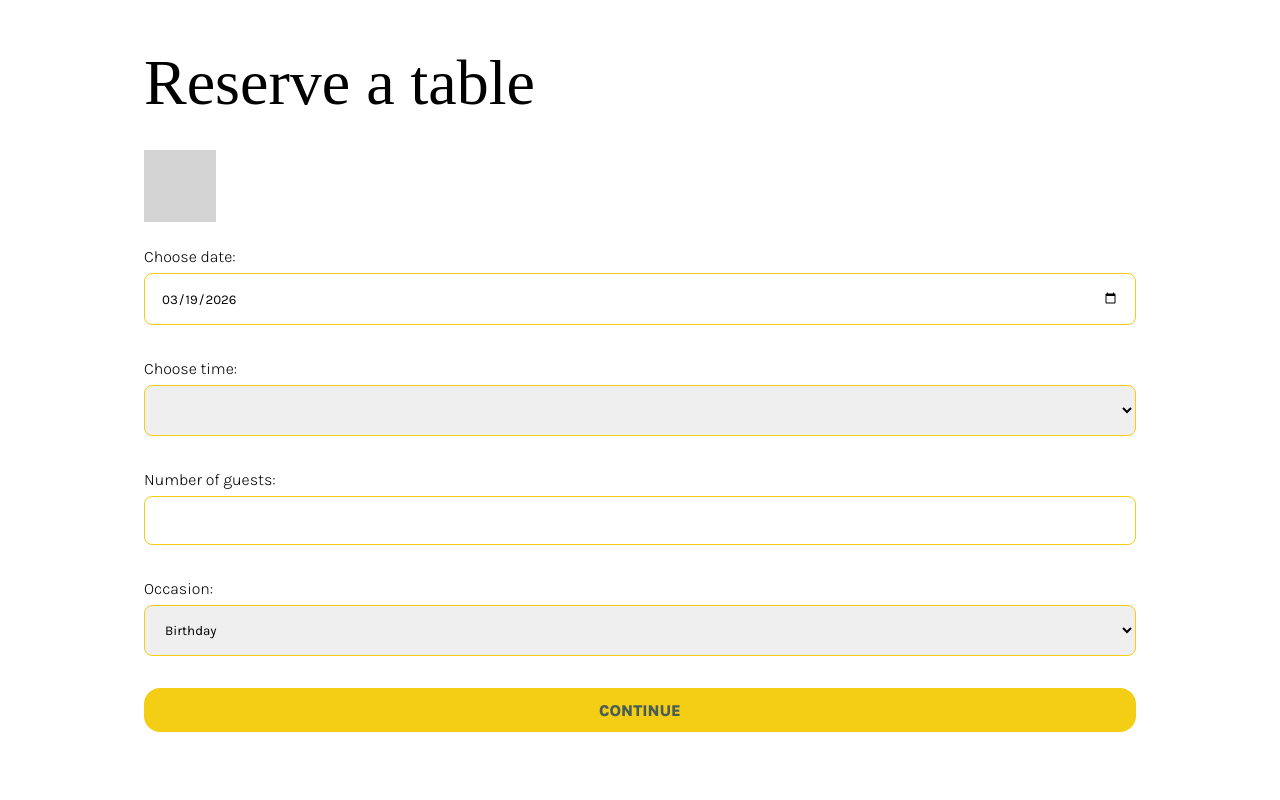
BookingPage › Booking form errors › should validate the time field
Select "" in the dropdown labelled "Choose time:" at (640, 410), box x1=144 y1=385 x2=1136 y2=436
Leave the dropdown labelled "Choose time:", box x1=144 y1=385 x2=1136 y2=436
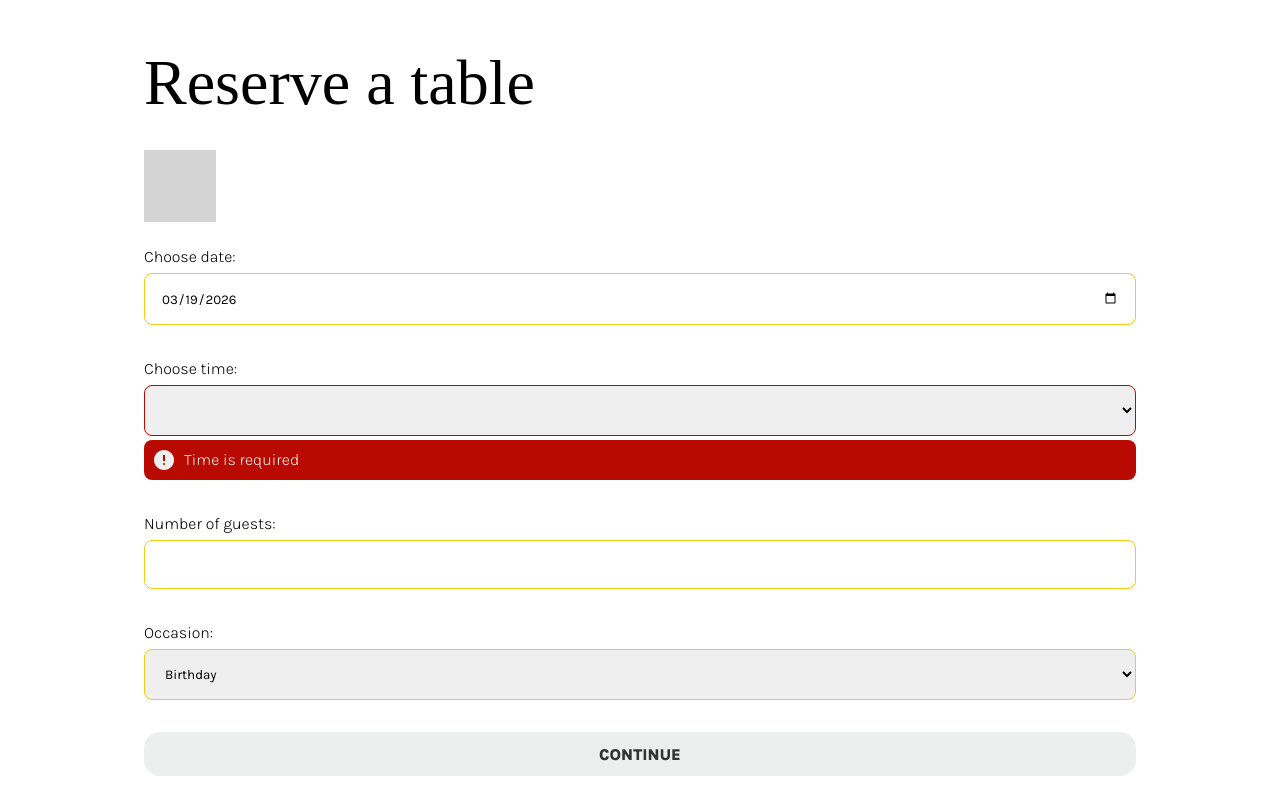
Check: the text "Time is required" is shown, box x1=184 y1=448 x2=299 y2=472
